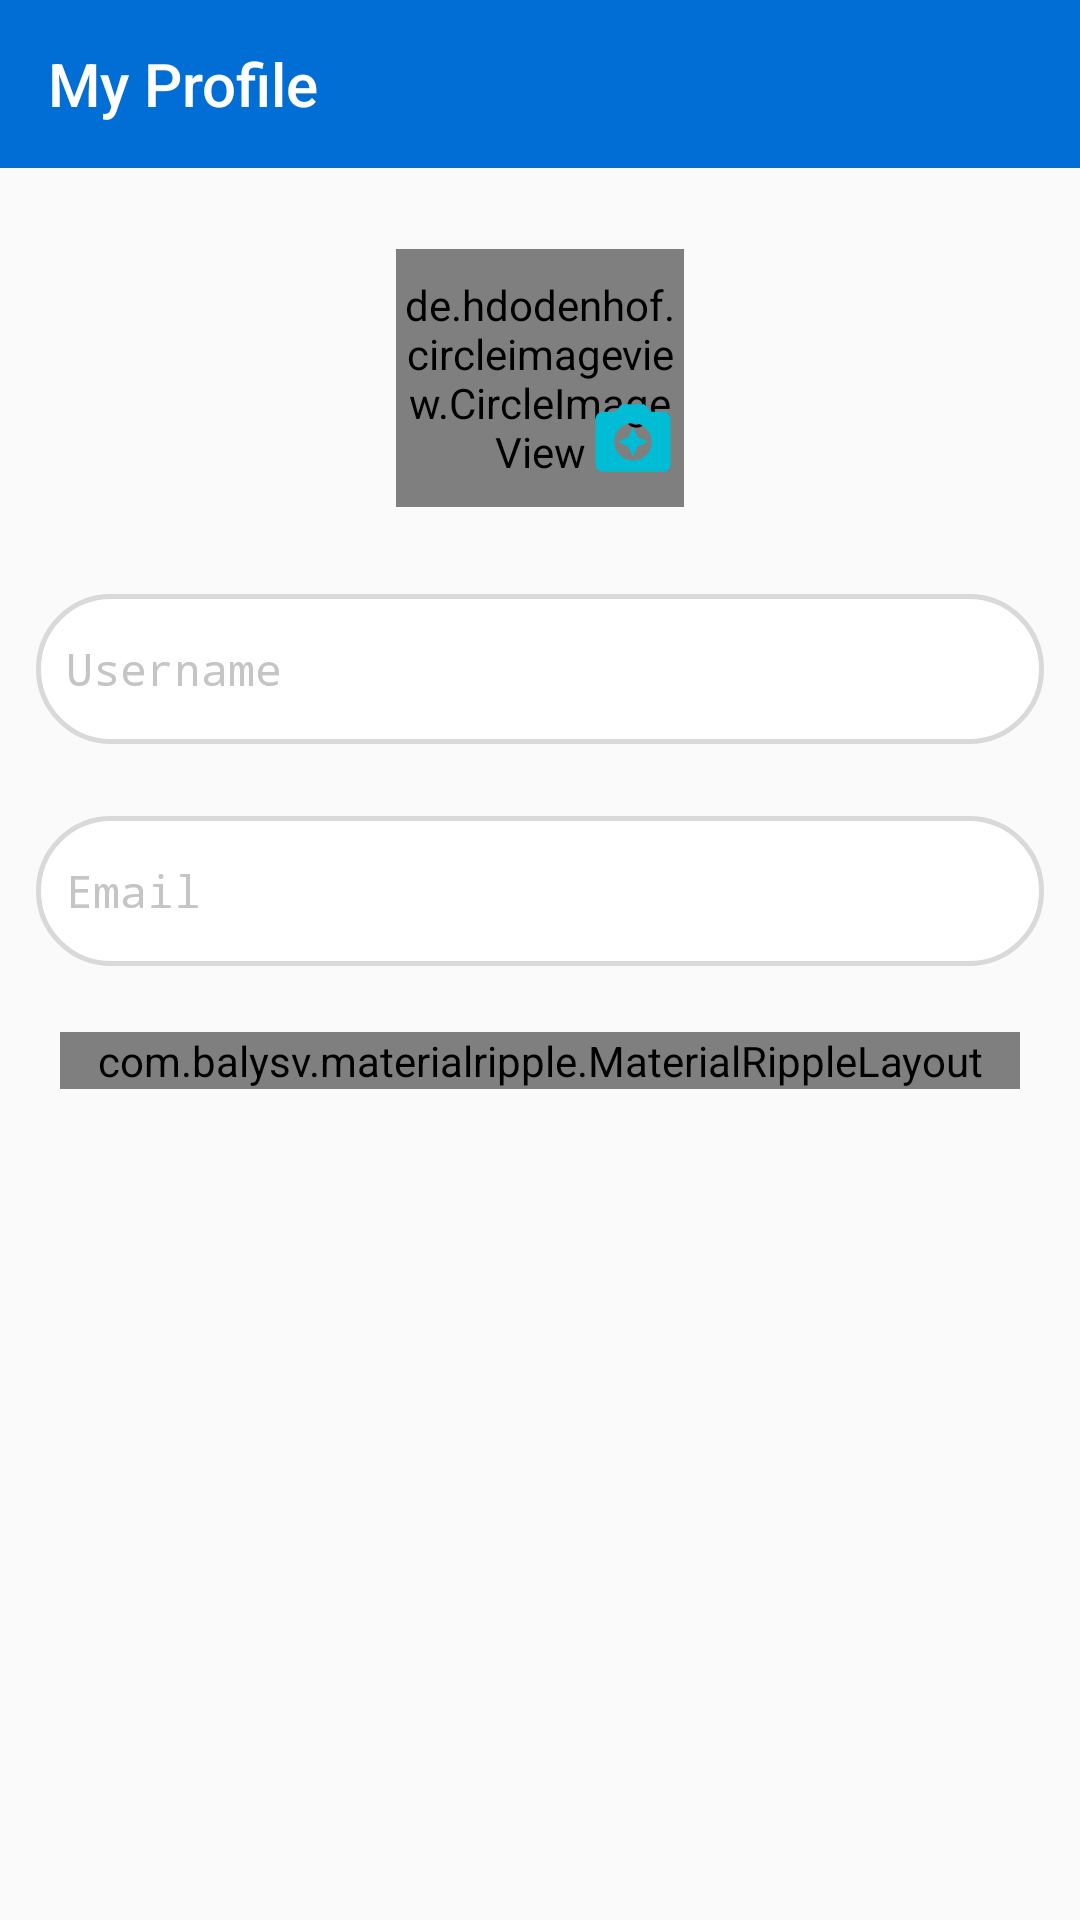

Icons on this 1080*1920 Android screen, each with the point to tap as point (x, y):
camera: point (629, 434)
